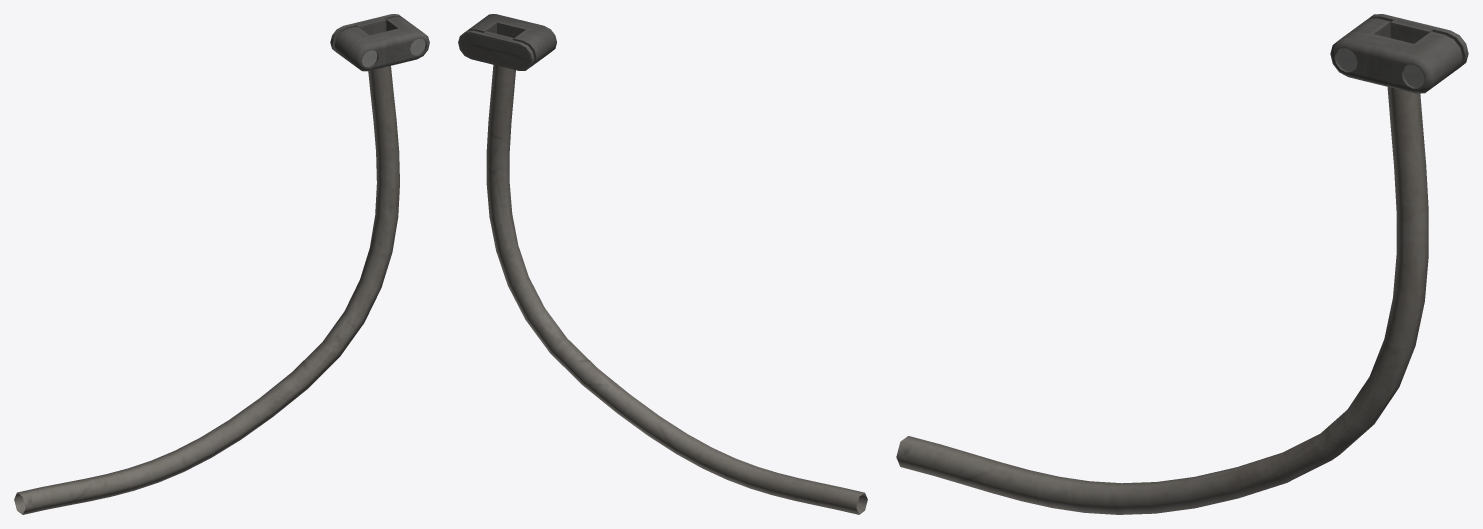
The model's file is cable_cable_turn_long.fbx.
3 renders of one model, left to right at view 1: azimuth 30°, elevation 25°; view 2: azimuth 150°, elevation 25°; view 3: azimuth 330°, elevation 25°, orthographic. The views are drawn at different scales.
Visible parts, largest first — view 1: modular_electric_cables__cable_turn_long; view 2: modular_electric_cables__cable_turn_long; view 3: modular_electric_cables__cable_turn_long.
Part boxes in pixels (x1,y1,x2,y2): modular_electric_cables__cable_turn_long: (14, 14, 429, 514); modular_electric_cables__cable_turn_long: (458, 14, 867, 514); modular_electric_cables__cable_turn_long: (896, 14, 1468, 514).
Bounding box in the file's own units: 0.2208 × 0.2134 × 0.0259.
